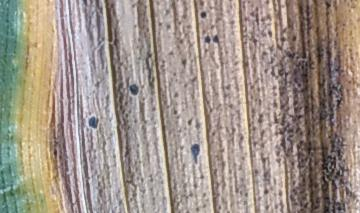tarspot: (189, 142, 201, 163), (87, 116, 100, 129), (129, 83, 140, 97), (213, 34, 220, 45), (198, 11, 207, 19), (204, 34, 211, 44), (52, 148, 59, 157)
